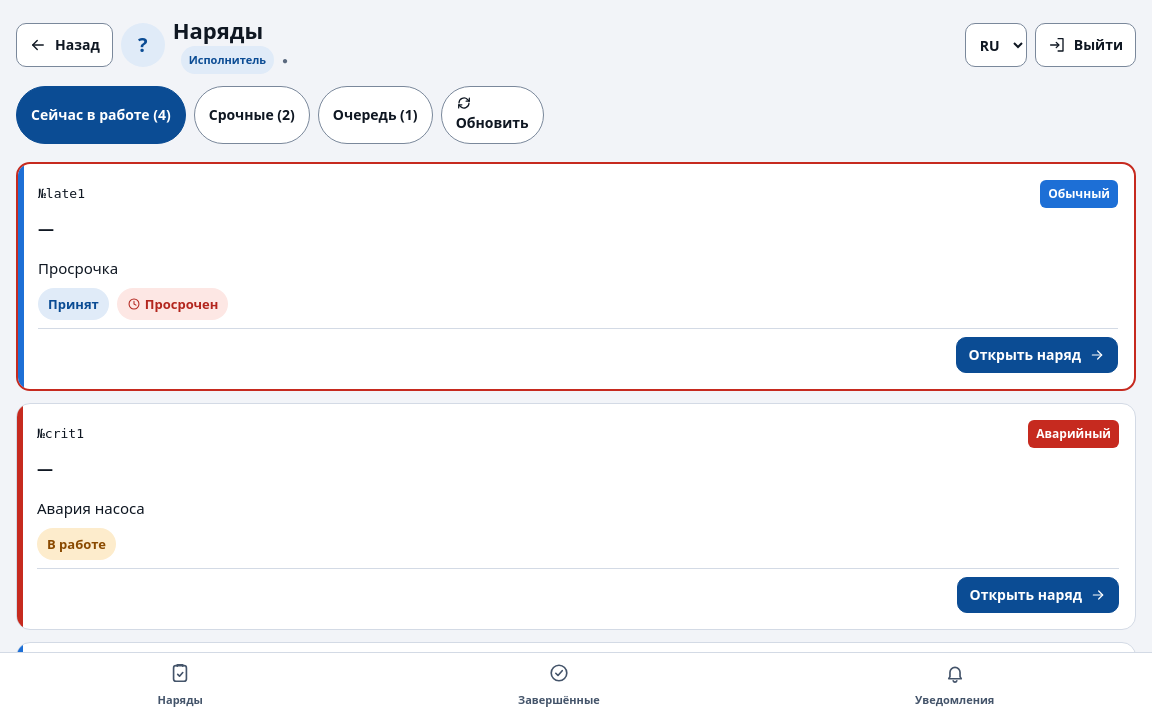
Test: WorkerHome › filters urgent and queue
The width and height of the screenshot is (1152, 720).
What coordinates should you click on to do the following:
click the tab "Срочные (2)"
I would click on:
 (252, 115)
Its box is [194, 86, 310, 144].
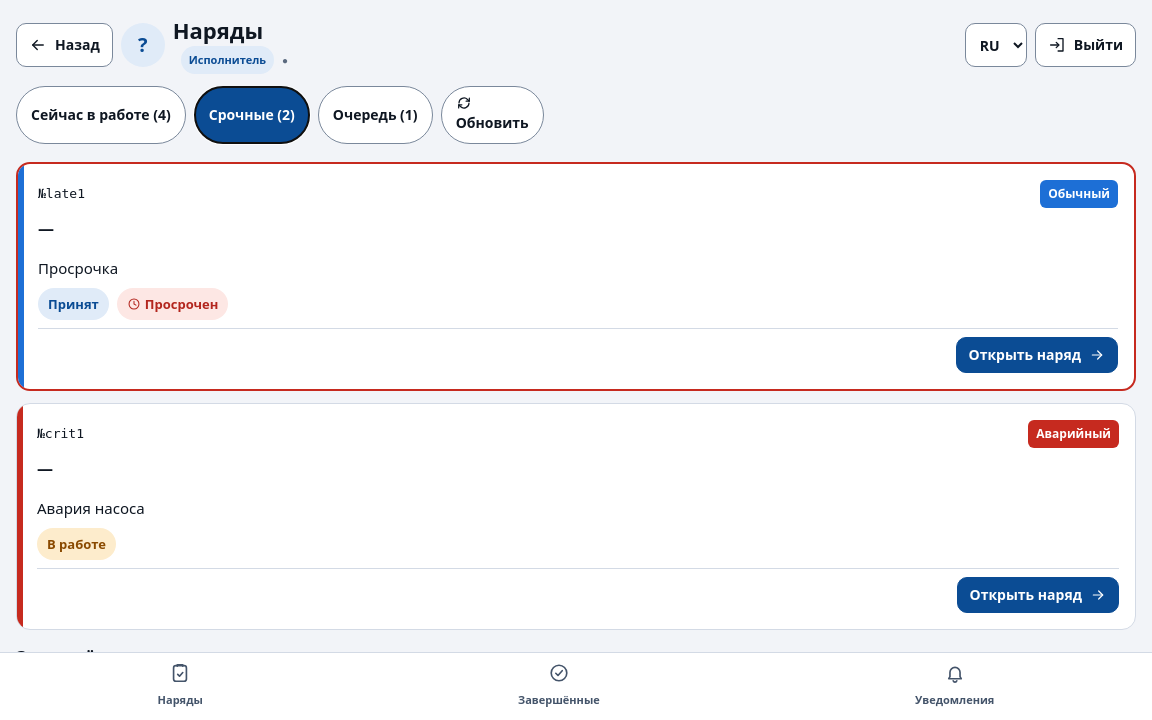
Expected: the text "Авария насоса" is shown, [37, 498, 145, 518]
What coordinates should you click on to do the following:
click the tab "Очередь (1)"
I would click on:
 (375, 115)
Its box is [318, 86, 433, 144].
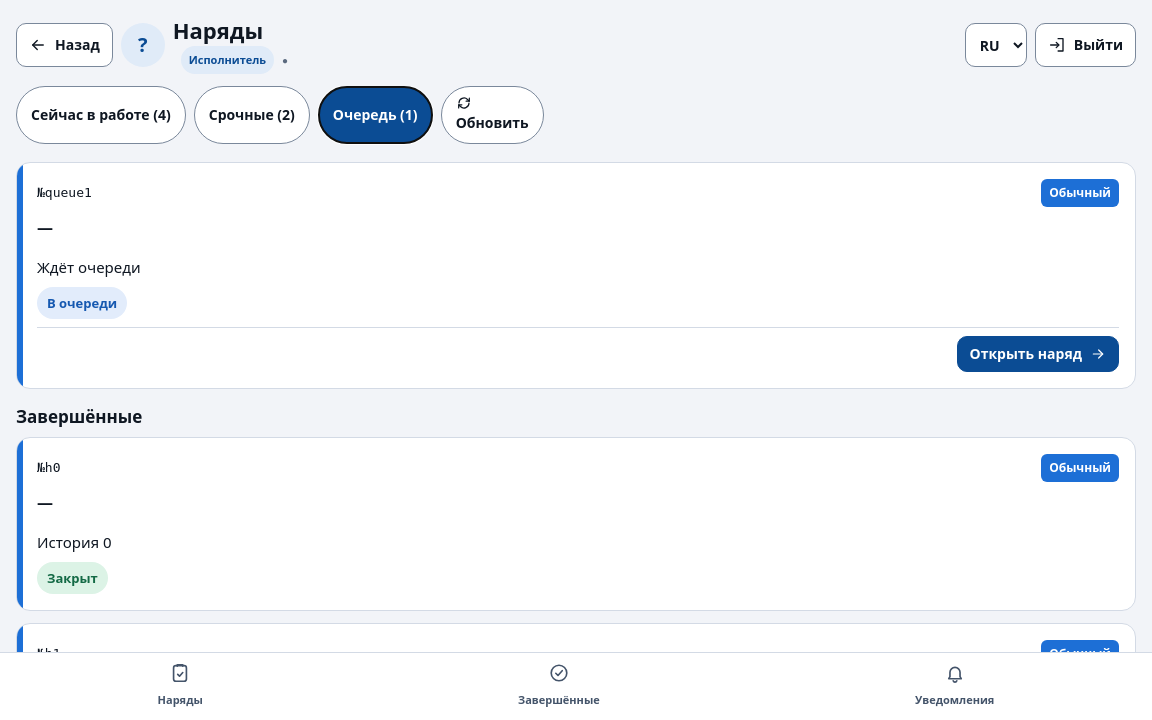
Expected: the text "Ждёт очереди" is shown, [37, 257, 141, 277]
Expected: the link "Авария насоса" is gone
